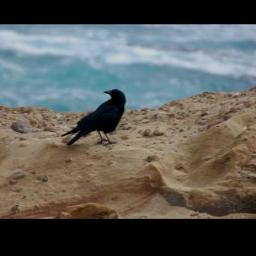Crow: (62, 86, 127, 147)
